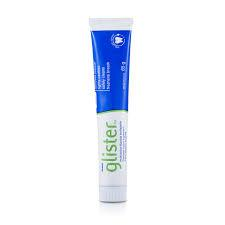toothpaste: (83, 12, 143, 210)
